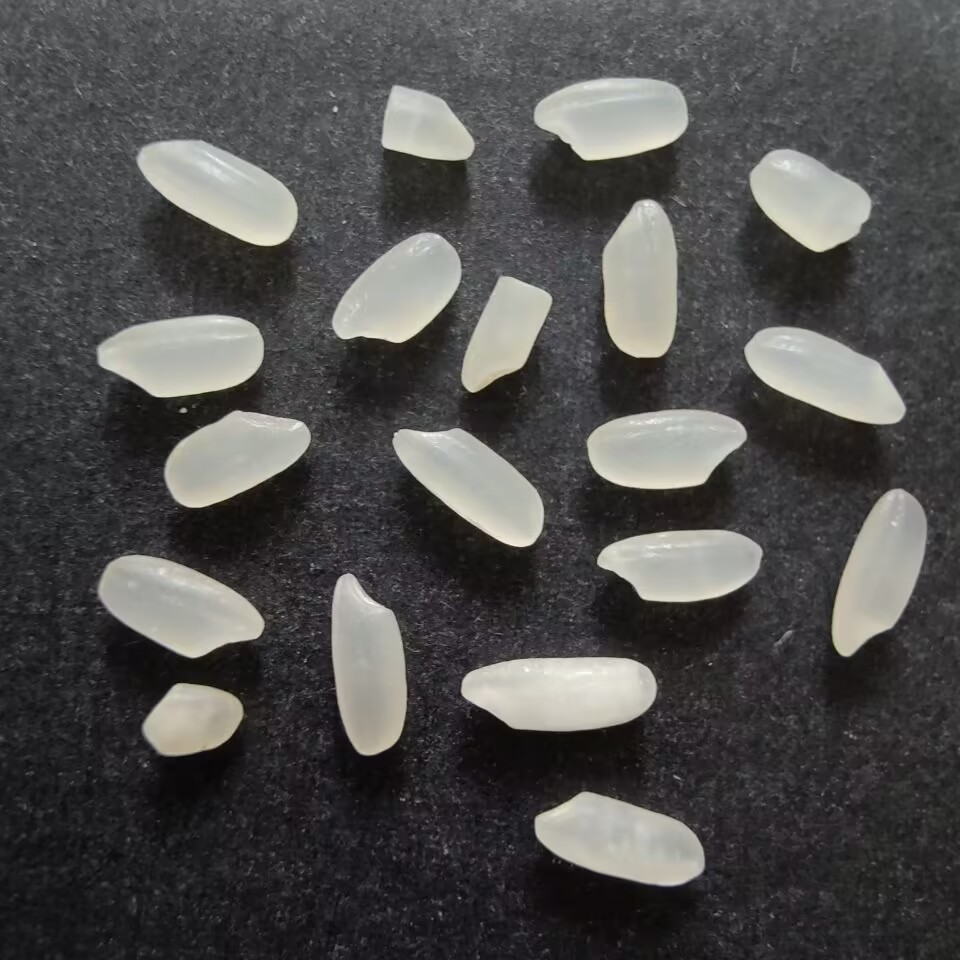broken: (745, 146, 873, 256), (458, 273, 556, 399), (378, 81, 481, 172), (142, 682, 248, 767)
rice: (386, 423, 547, 552), (134, 136, 304, 250), (826, 482, 932, 662), (93, 552, 266, 661), (531, 786, 709, 889), (744, 324, 909, 432), (329, 228, 468, 347), (454, 654, 660, 734), (326, 568, 408, 759), (164, 408, 313, 511), (94, 312, 264, 401), (527, 75, 690, 166), (581, 405, 749, 492), (596, 196, 683, 361), (592, 525, 769, 603)
